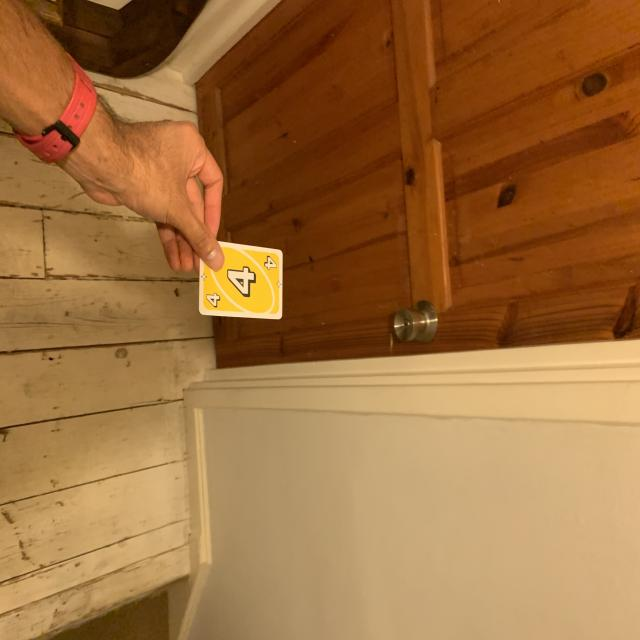lyellow-4: (261, 252, 279, 274)
